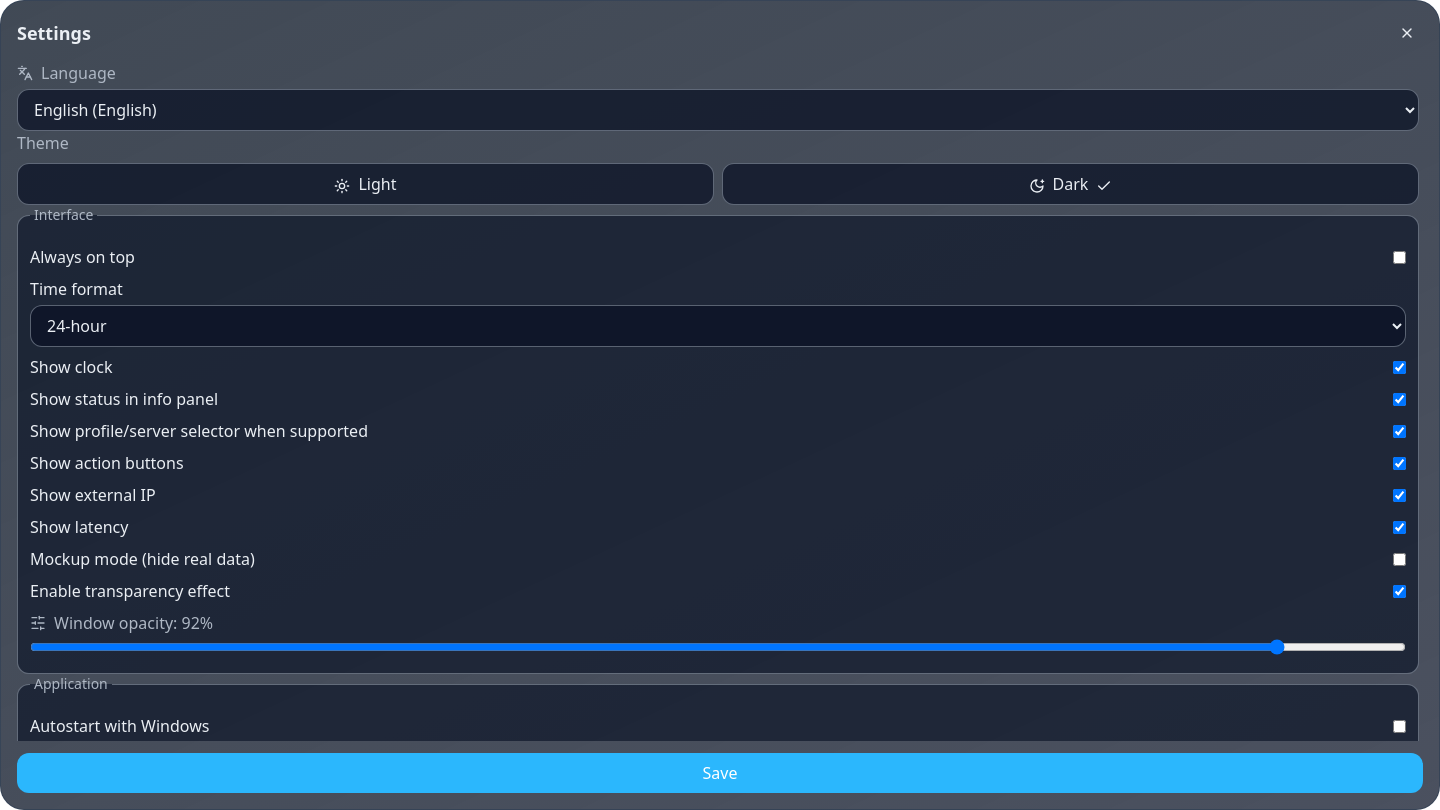
SettingsWindow close ownership › keeps discard controls operable while disabling the editable form and Save
The width and height of the screenshot is (1440, 810).
Expected: the heading "Settings" is shown, [17,19,91,47]
Click the checkbox labelled "Autostart with Windows".
click(1400, 726)  # box [1393,720,1406,732]
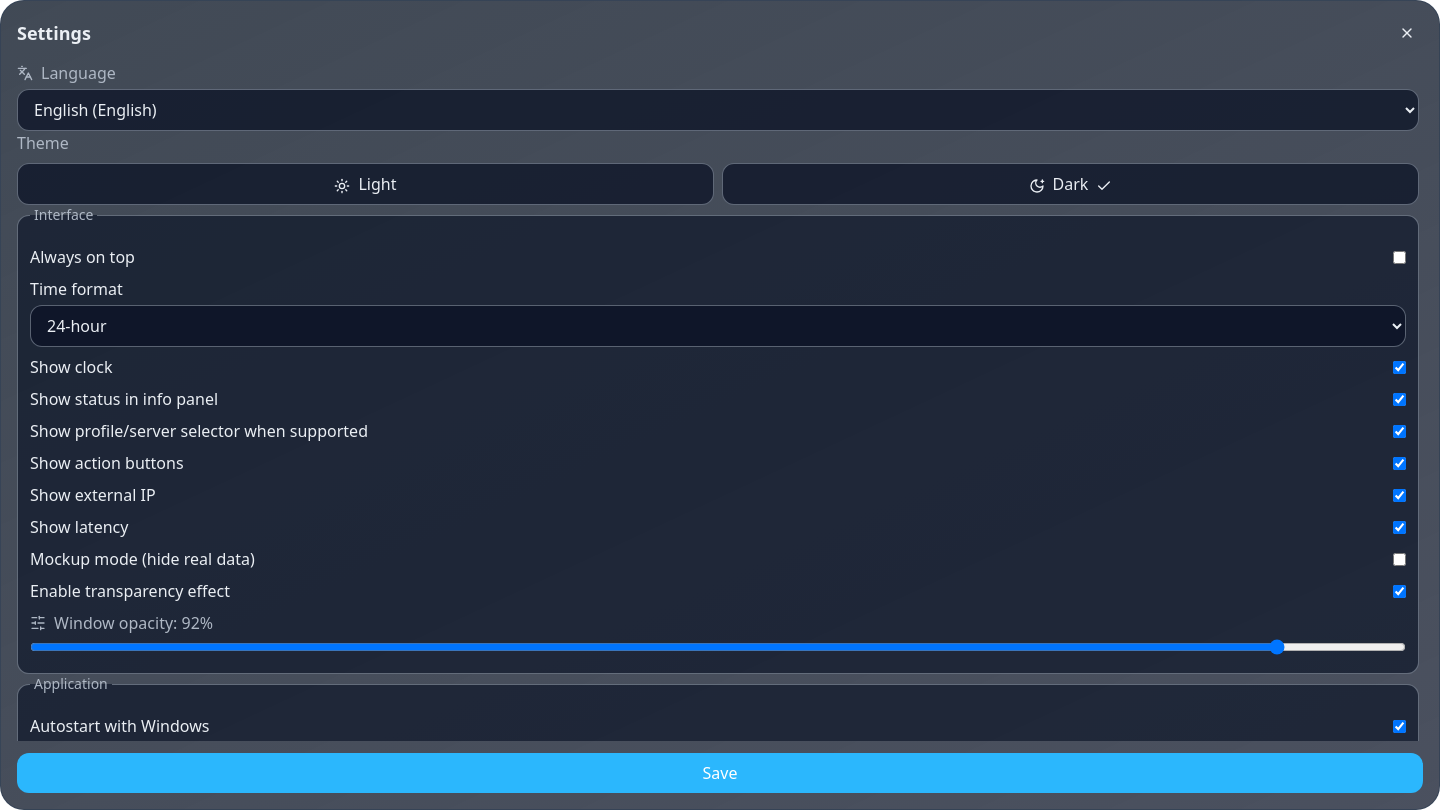
Click the button named "Close".
click(1407, 33)  # box [1391,17,1423,49]
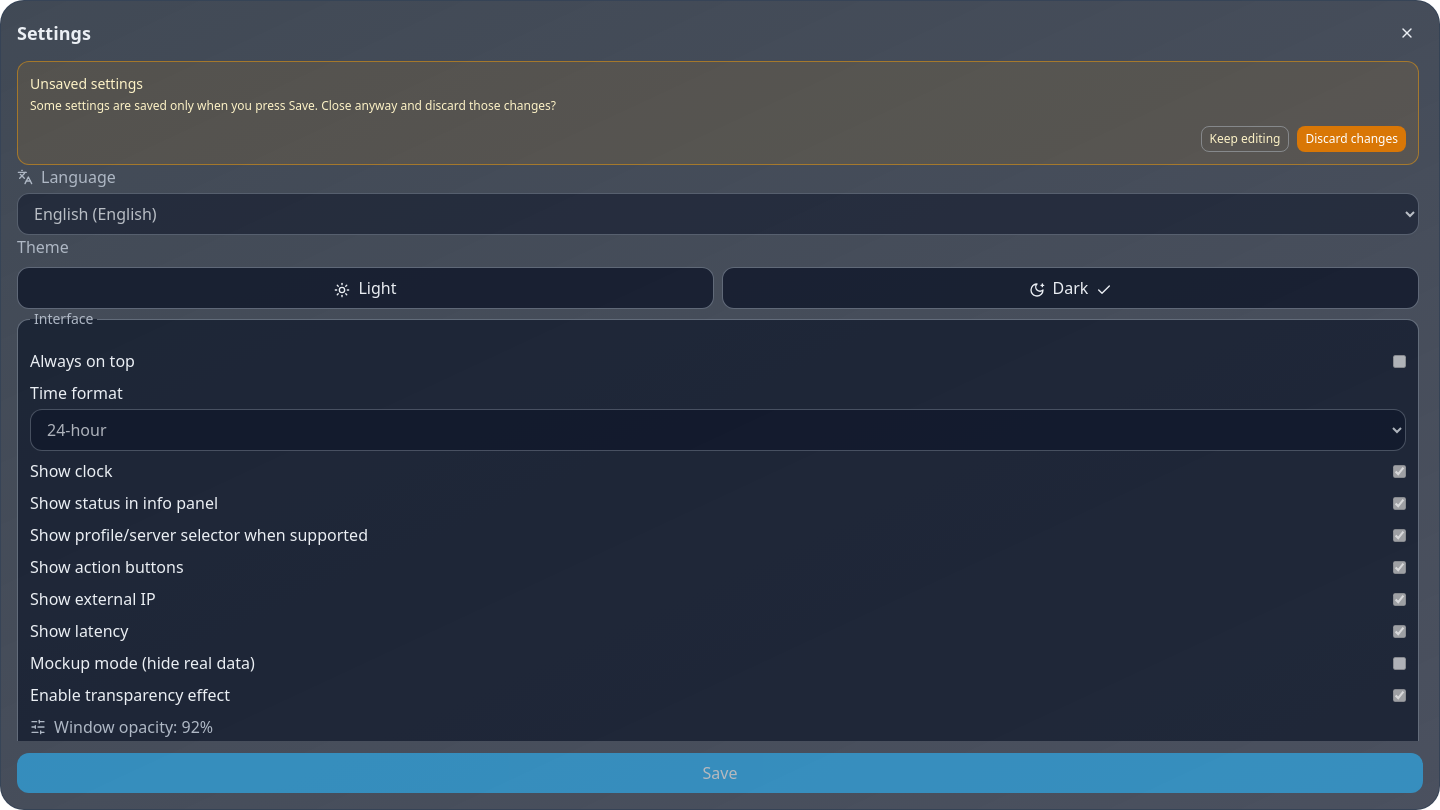
Click the button "Keep editing".
click(1245, 139)  # box [1200,126,1289,152]
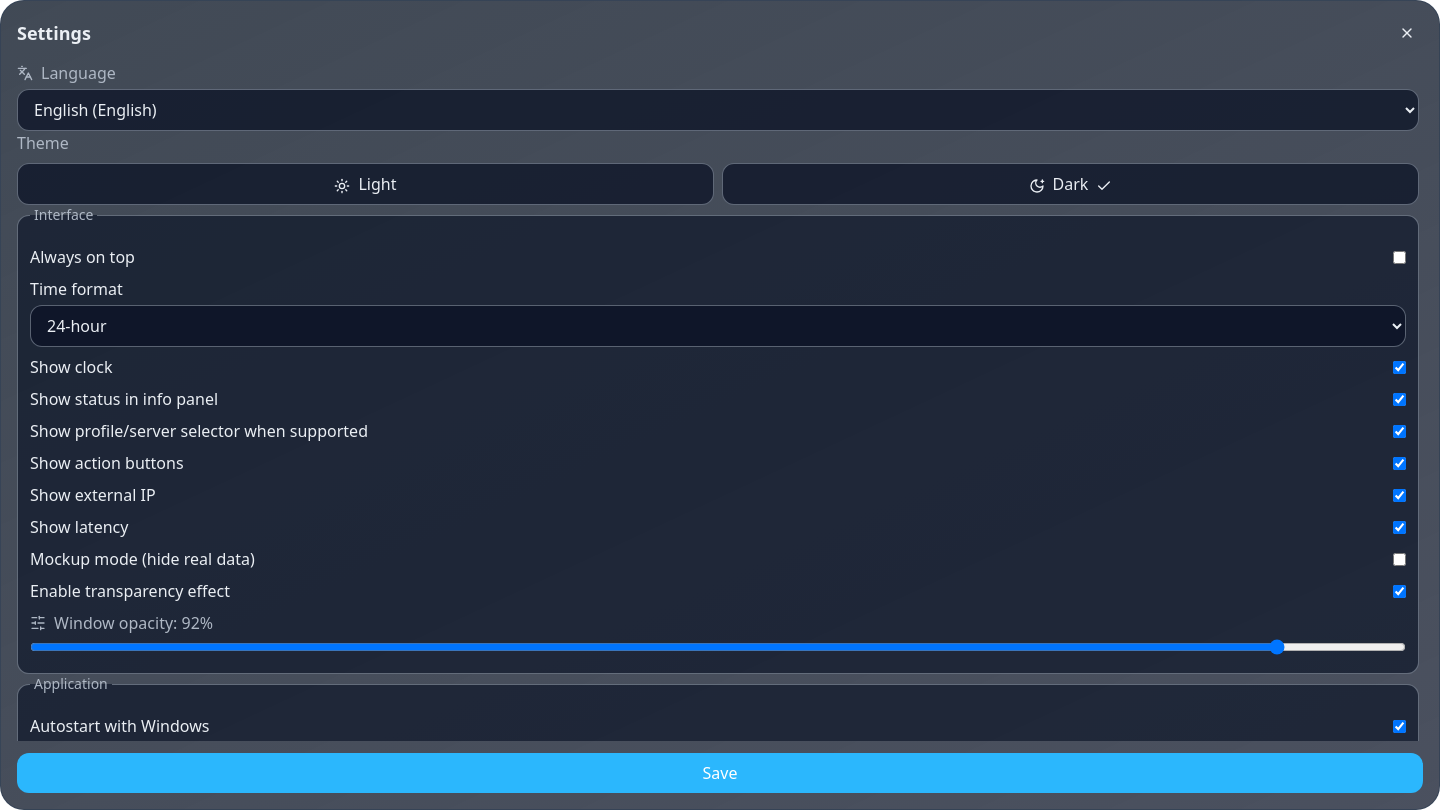
Expected: the text "Unsaved settings" is gone
